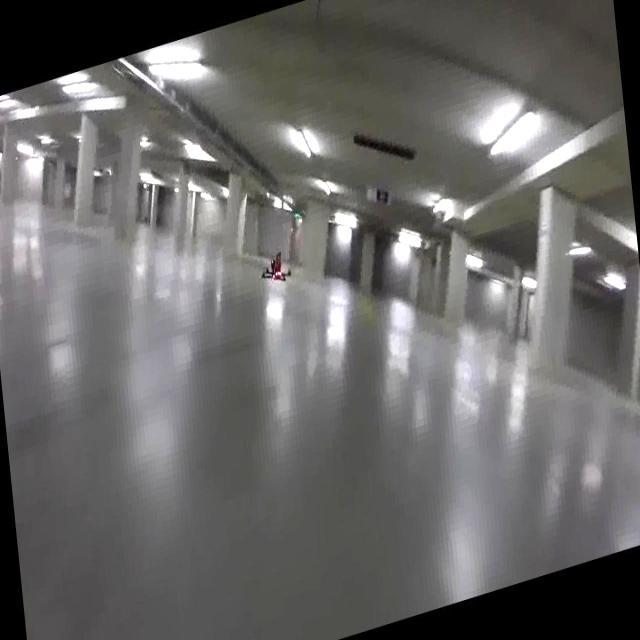drone: (255, 242, 291, 286)
